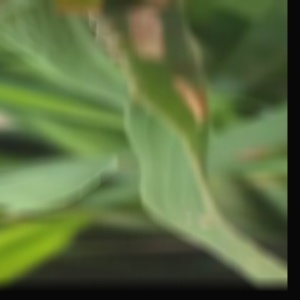Brown_Spot: (118, 1, 181, 68), (164, 70, 214, 134)
